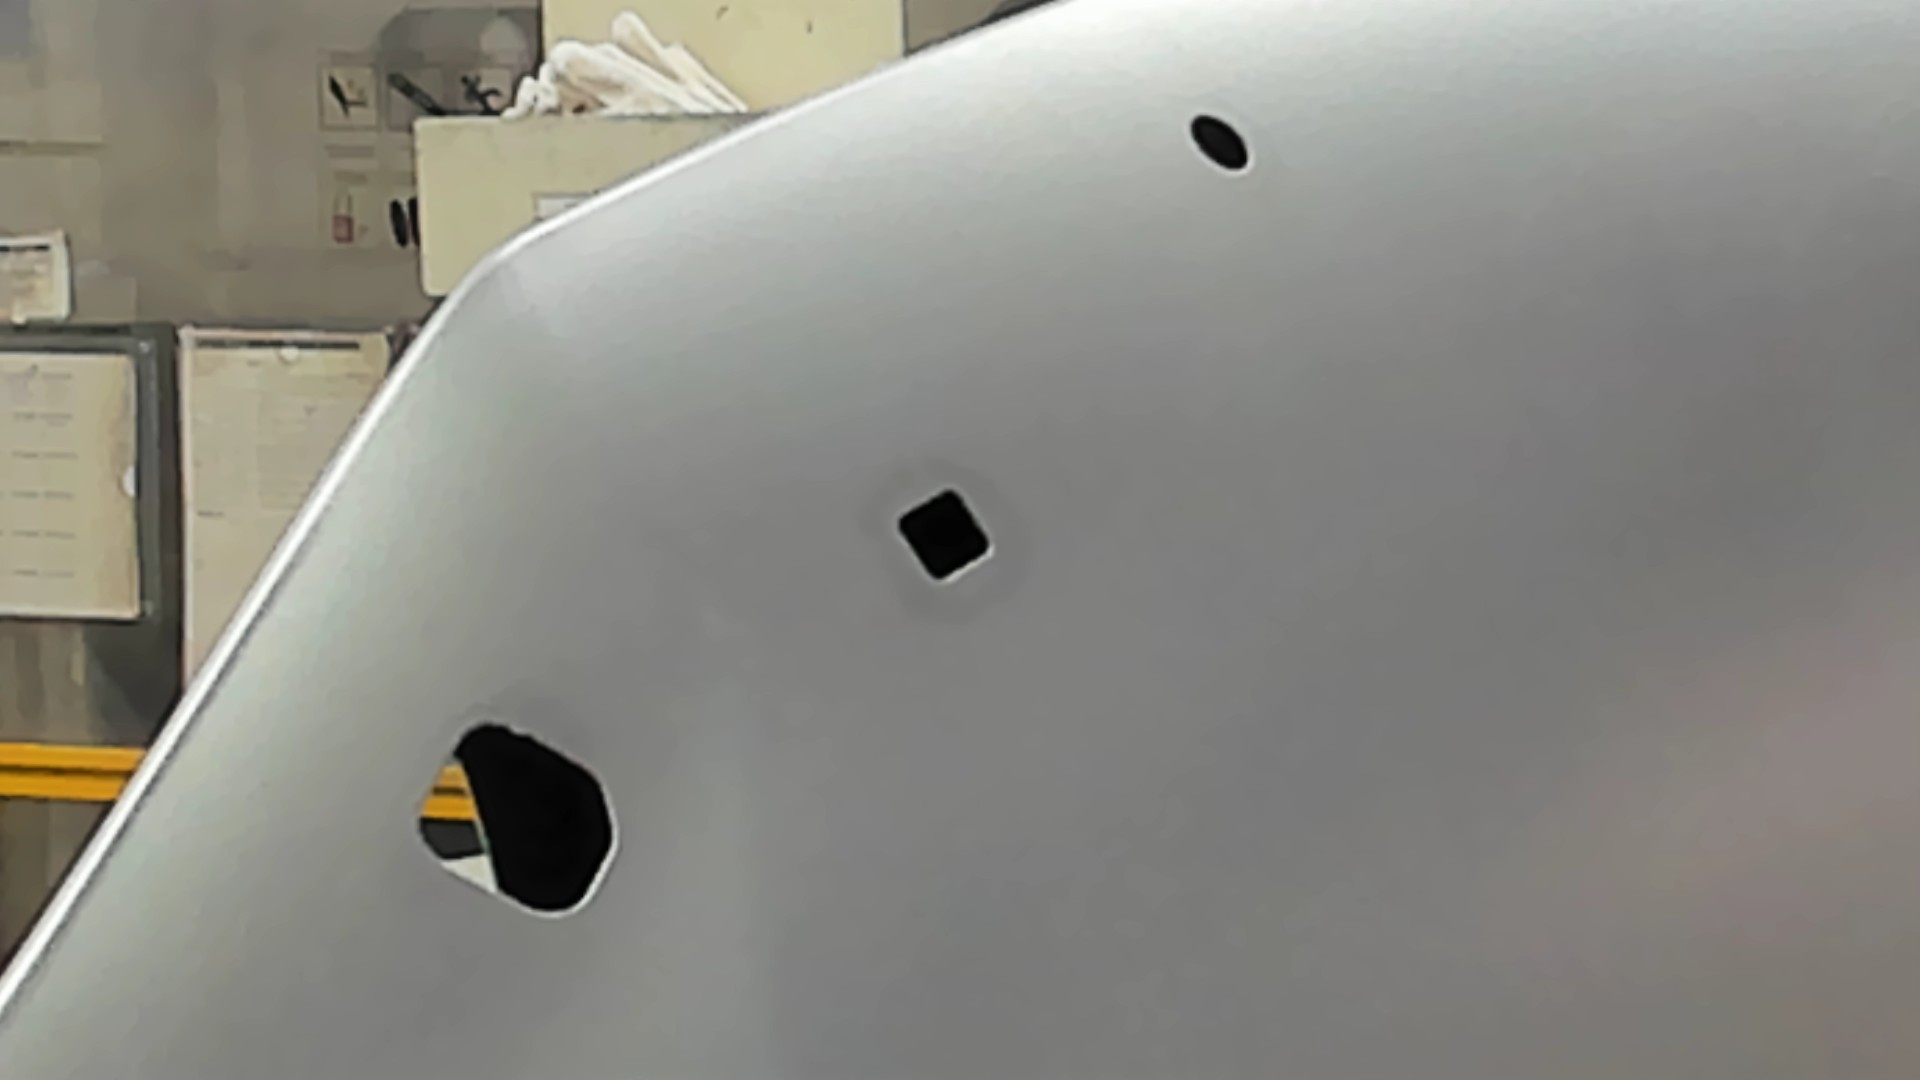capo: (1000, 179, 1920, 1080)
chico: (1185, 109, 1259, 179)
grande: (406, 717, 620, 920)
mediano: (891, 481, 997, 592)
